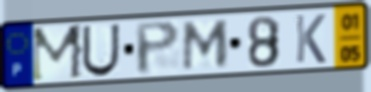8: (245, 15, 282, 69)
K: (293, 13, 328, 65)
M: (29, 22, 86, 84), (180, 18, 231, 73)
P: (133, 19, 182, 77)
U: (80, 23, 122, 79)
